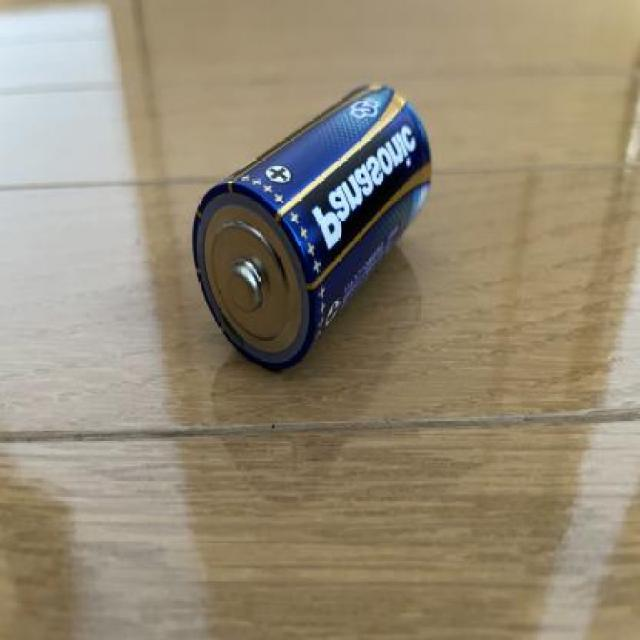hazardous waste: (189, 78, 434, 374)
